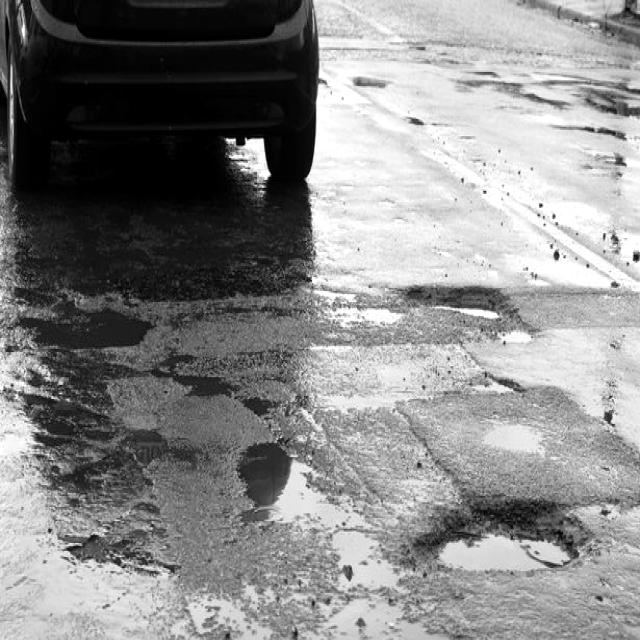pathole: (239, 444, 346, 541), (404, 286, 532, 352), (20, 303, 151, 349), (439, 534, 570, 571), (151, 351, 237, 396), (248, 405, 269, 415)
